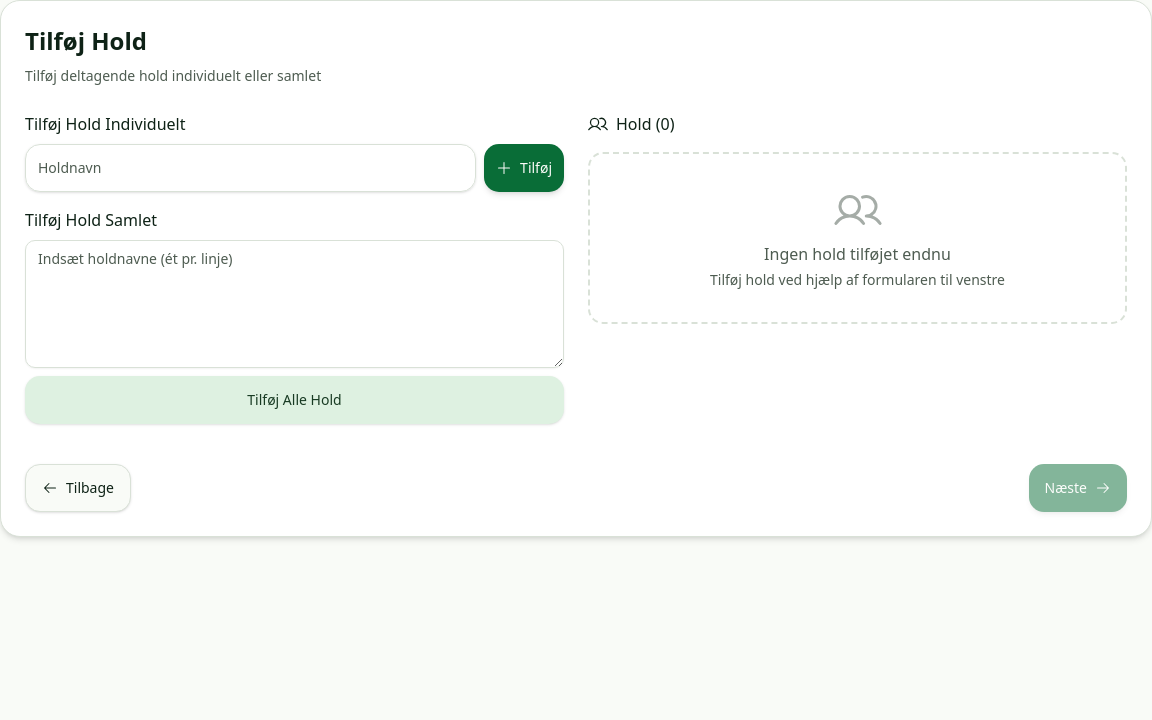
Step2Teams › adds a team via the input and Tilføj button
In the field labelled "Tilføj Hold Individuelt": coordinates (251, 168) [25, 144, 476, 192], type "Lions"
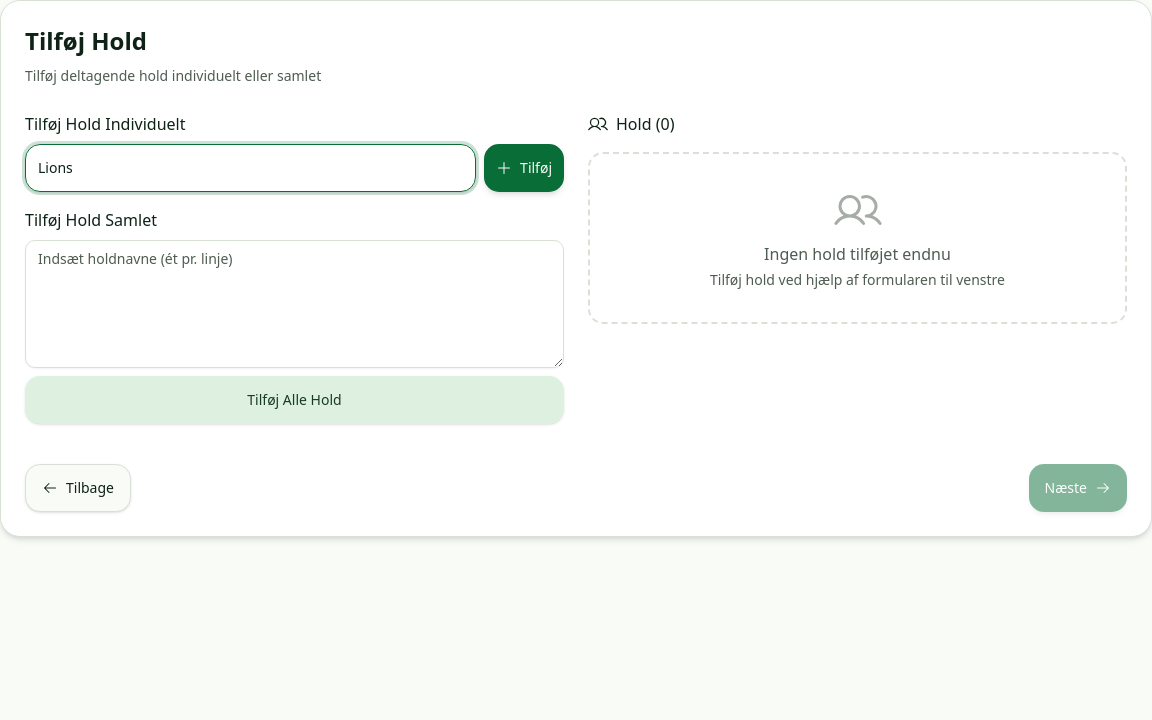
Click the button "Tilføj": coordinates (524, 168) [484, 144, 564, 192]
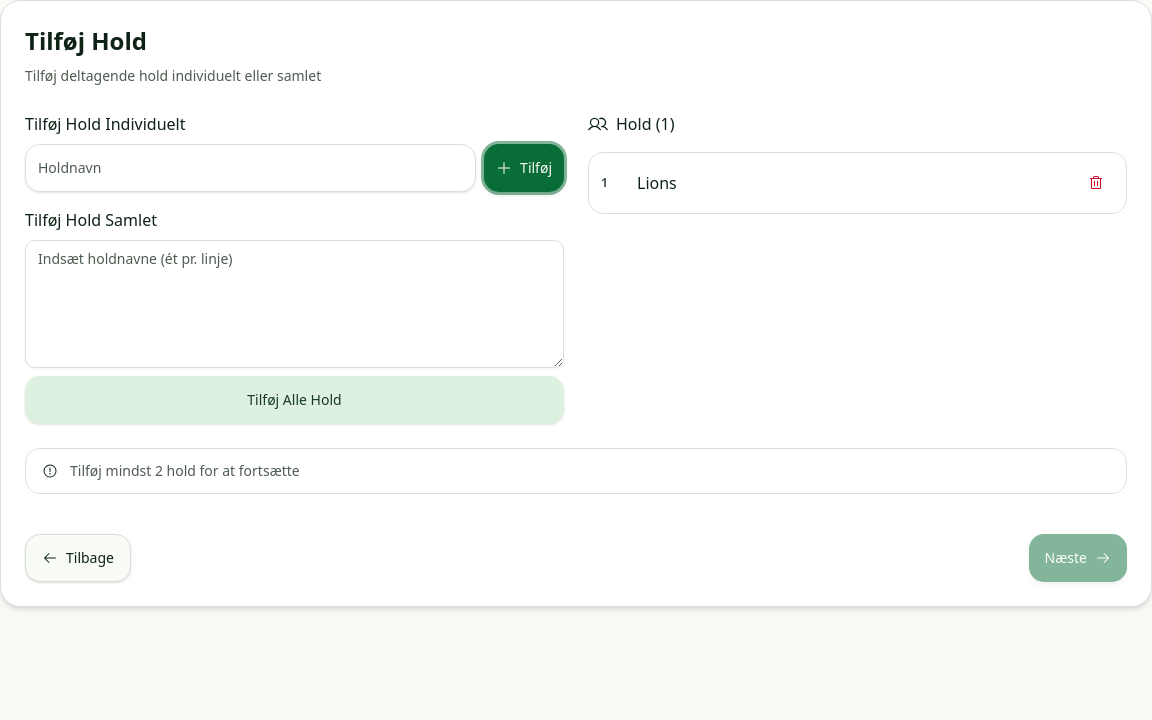
Now the text "Lions" is shown, box [637, 171, 677, 195]
Now the text "Hold (1)" is shown, box [588, 112, 674, 136]
Now the field labelled "Tilføj Hold Individuelt" is empty, box [25, 144, 476, 192]
